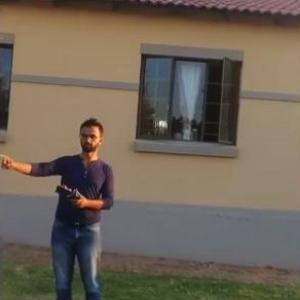follow: (0, 113, 118, 299)
